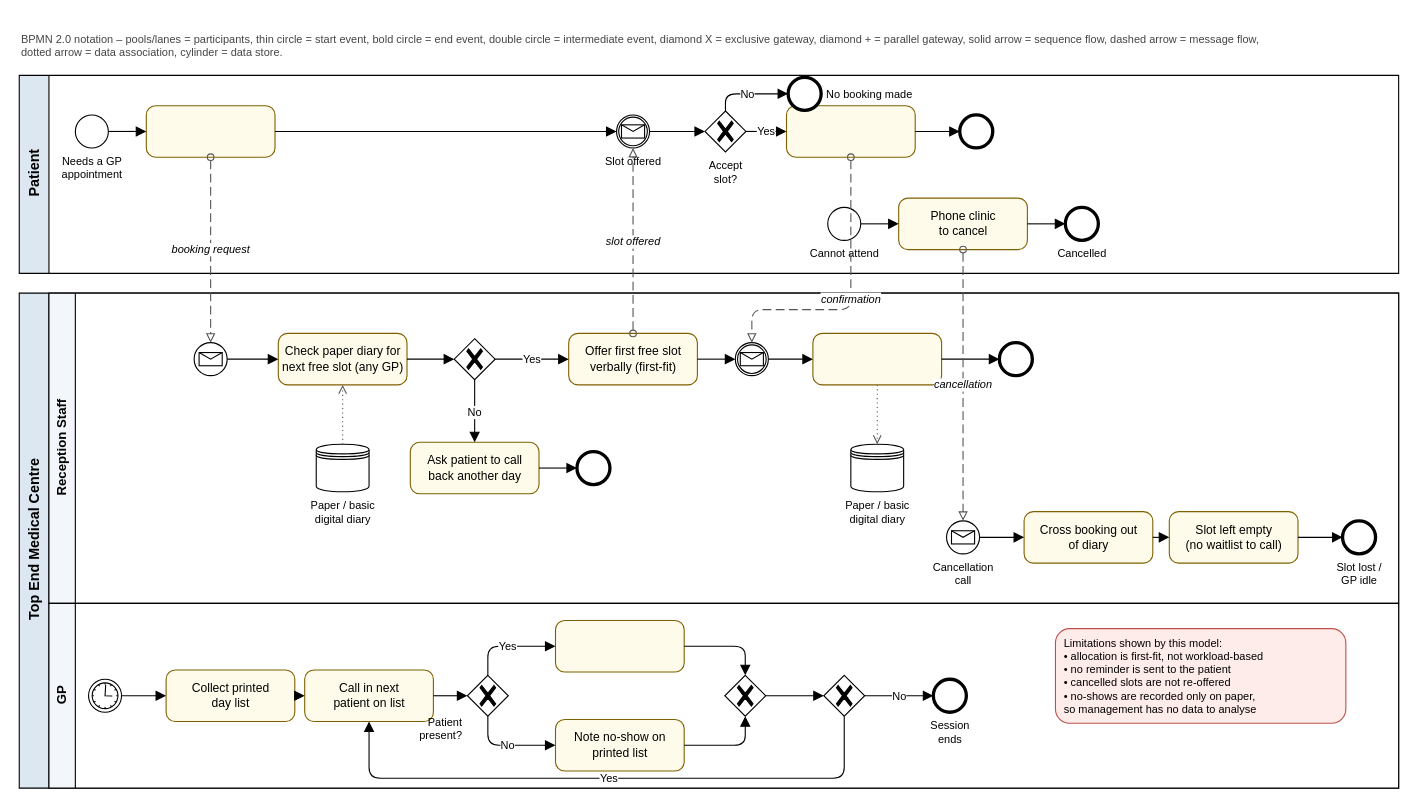
The diagram is 1418 pixels wide and 807 high, and some of its shapes have lost their labels. The centre of each missing label's shape, as x and y in pixels:
Booked (no reminder sent): point 1015,359
Booking confirmed: point 976,131
Call received: point 210,359
Confirm booking verbally: point 850,131
Consult patient: point 619,645
Free slot found?: point 474,359
More patients?: point 844,695
Not booked: point 593,467
Patient reply: point 751,359
Phone clinic with preferred day/time: point 210,131
Start of session: point 104,695
Write booking into diary: point 877,358
